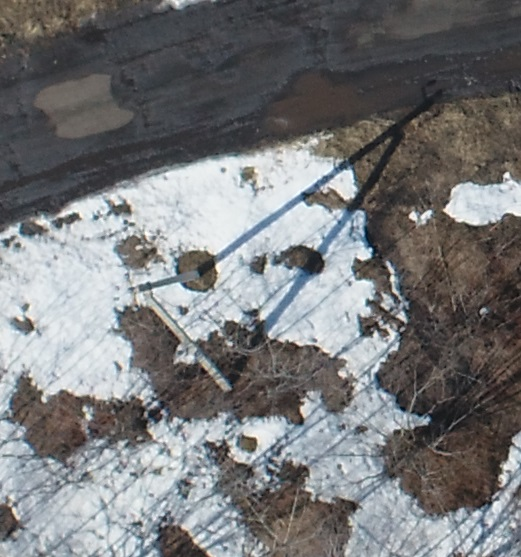opora: (120, 247, 280, 393)
